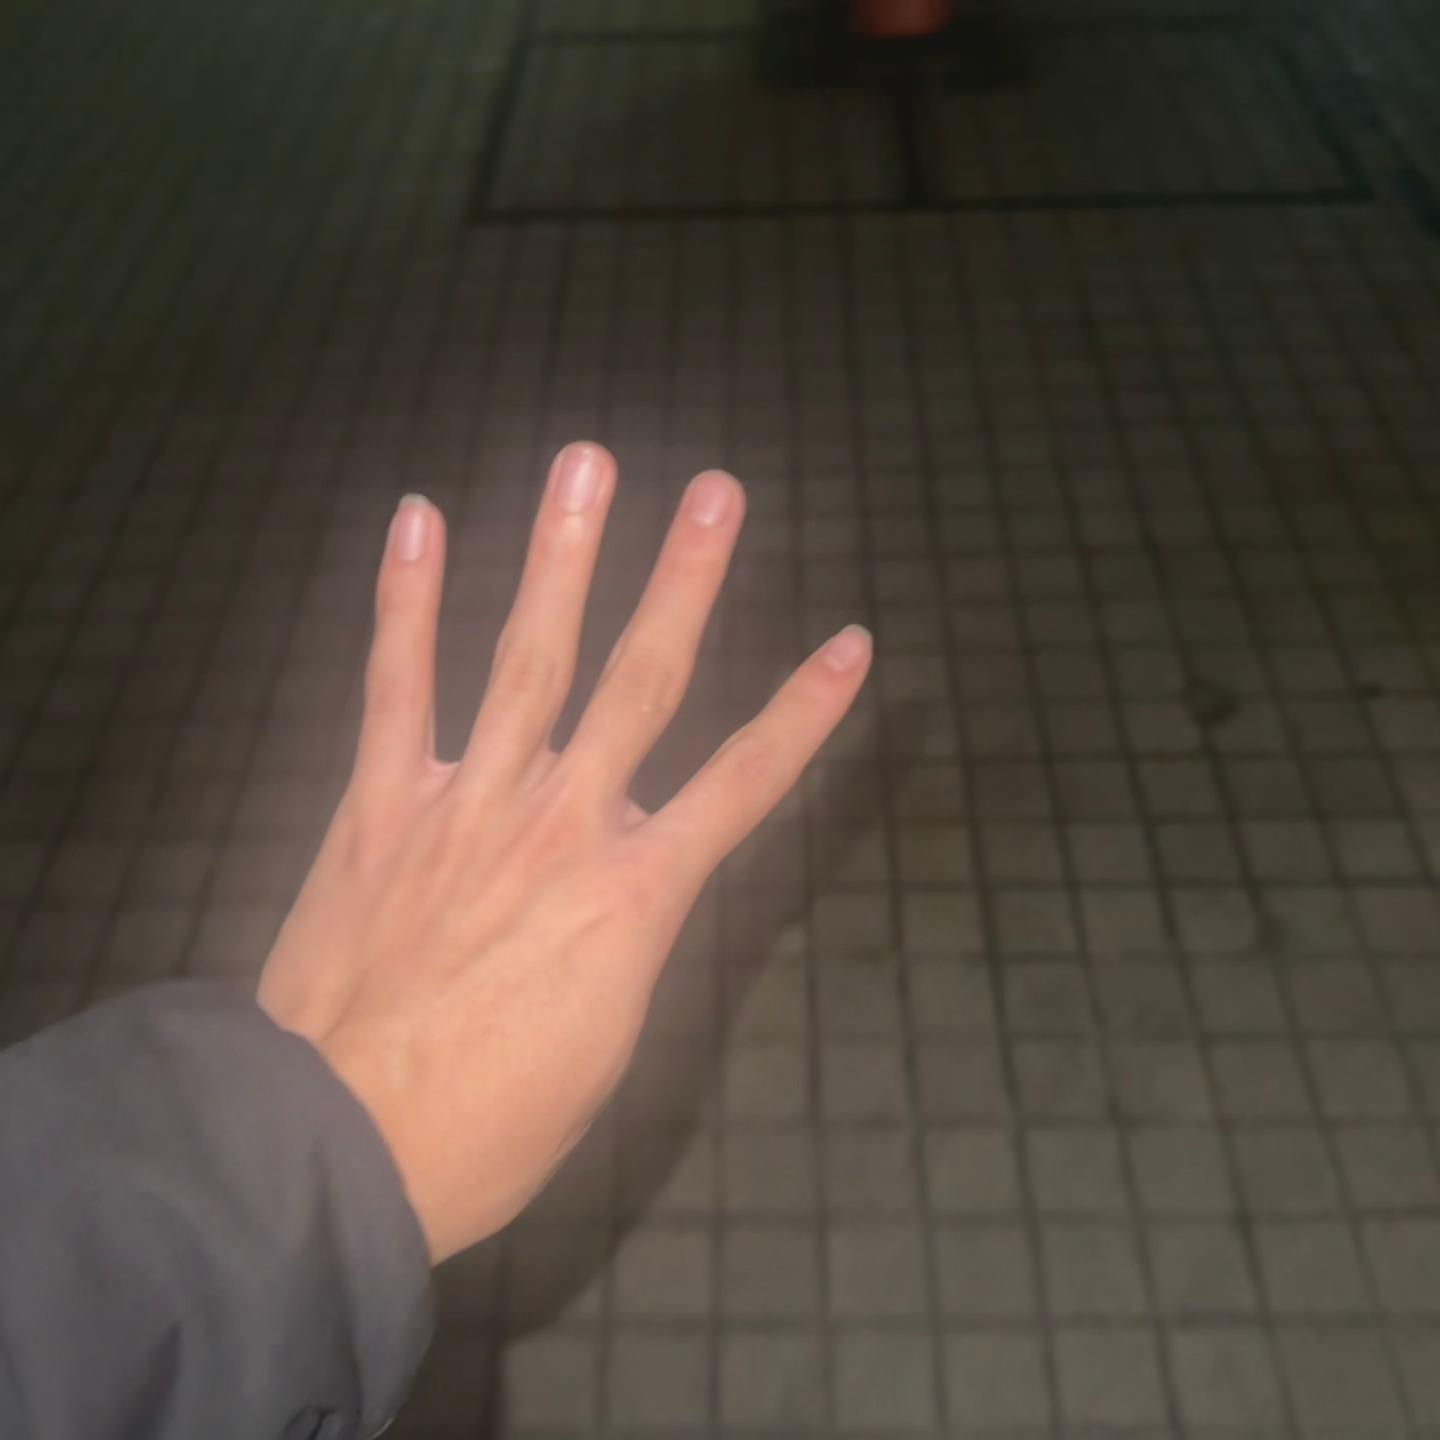without_gloves: (240, 397, 858, 1284)
